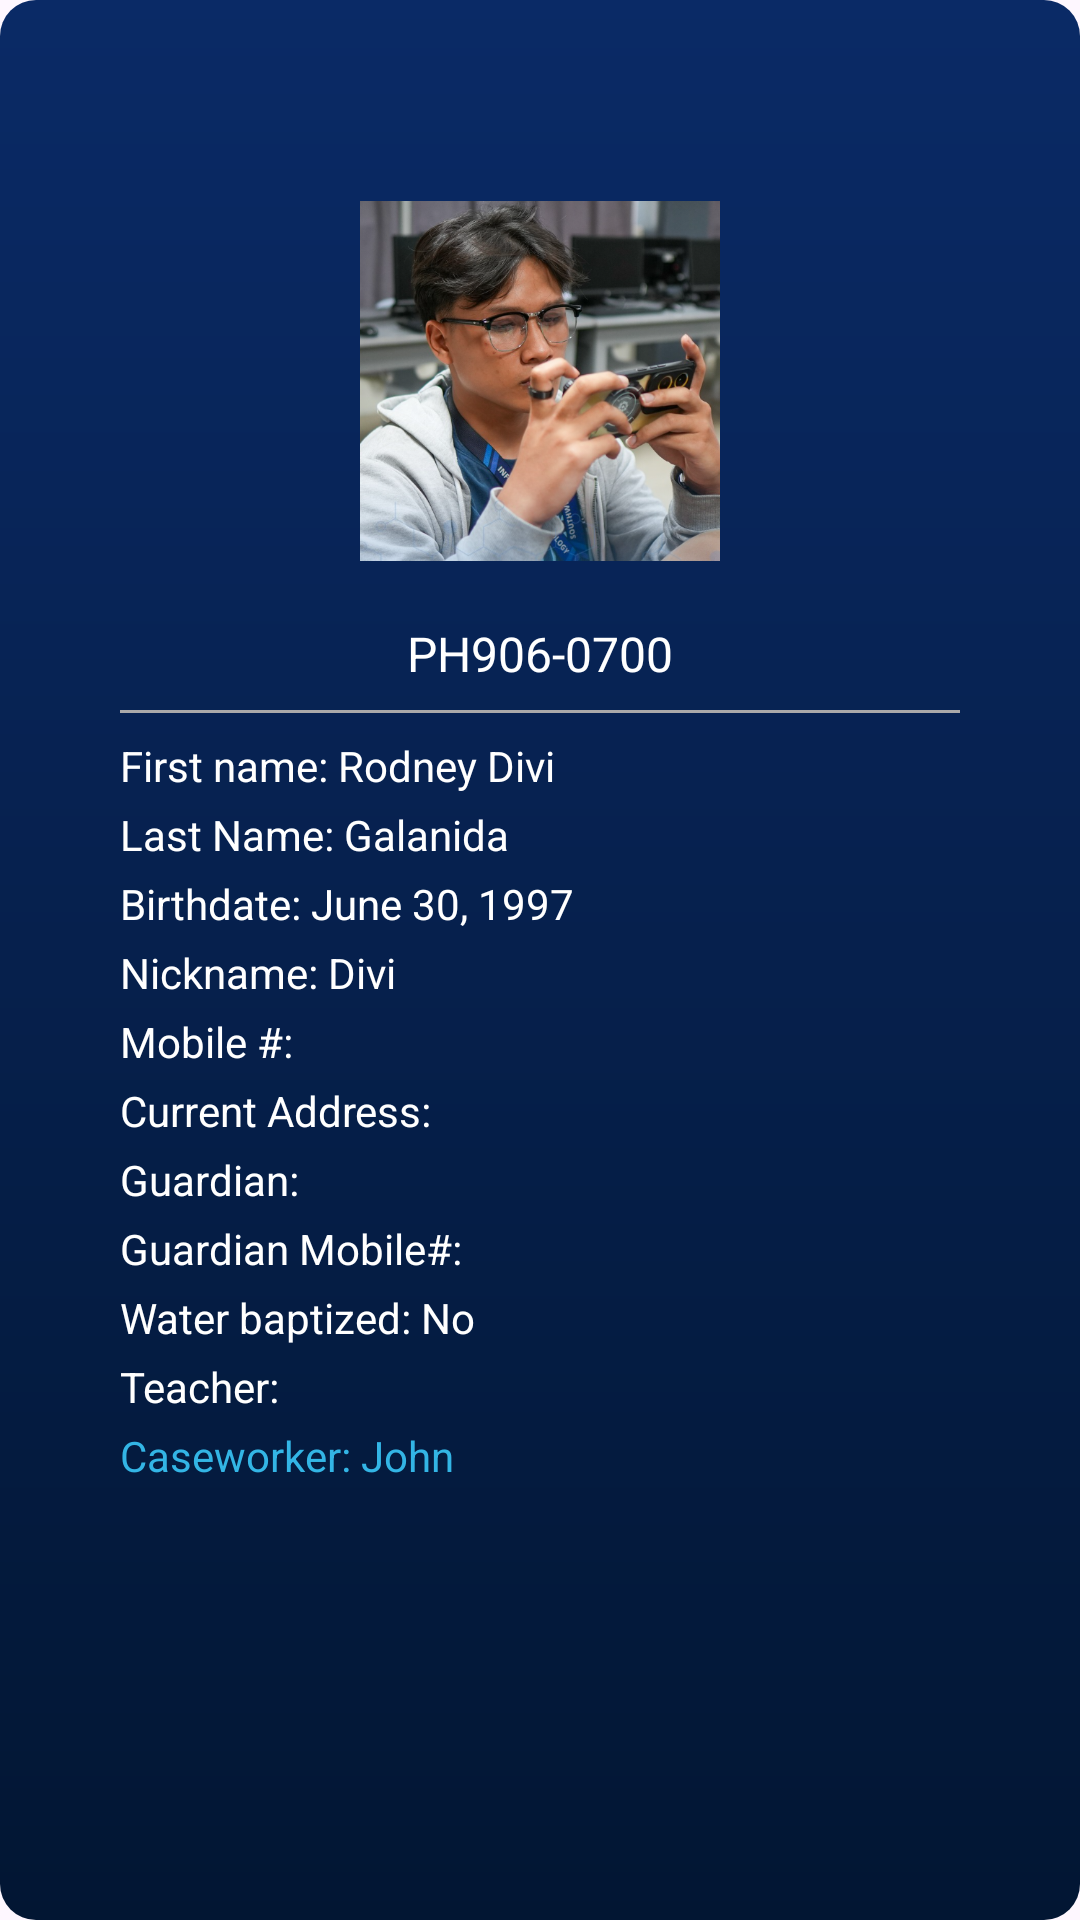

Locate icon controls on the screen. Image size 1080w x 1920h, boxes as (x1, y1, x2, y2).
Profile Picture: (360, 201, 720, 561)
